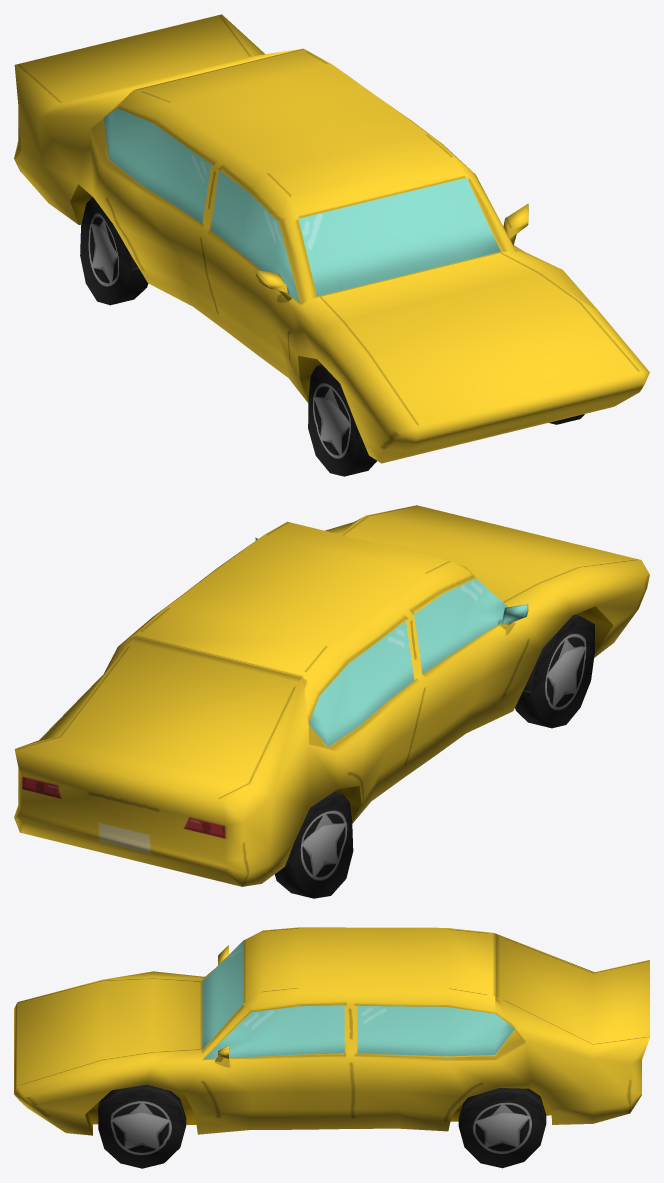
File: decorCar2.fbx
3 views of the same model, one above another, from view 1: azimuth 30°, elevation 25°; view 2: azimuth 150°, elevation 25°; view 3: azimuth 270°, elevation 25° (orthographic). The views are drawn at different scales.
Parts seen in each view (by area): view 1: DecorCar_2; view 2: DecorCar_2; view 3: DecorCar_2.
Boxes of the visible parts, x1,y1,x2,y2 form: DecorCar_2: (14,14,649,476); DecorCar_2: (14,505,649,898); DecorCar_2: (14,927,649,1168).
Size of the model in its own units: 271 by 205 by 709.
